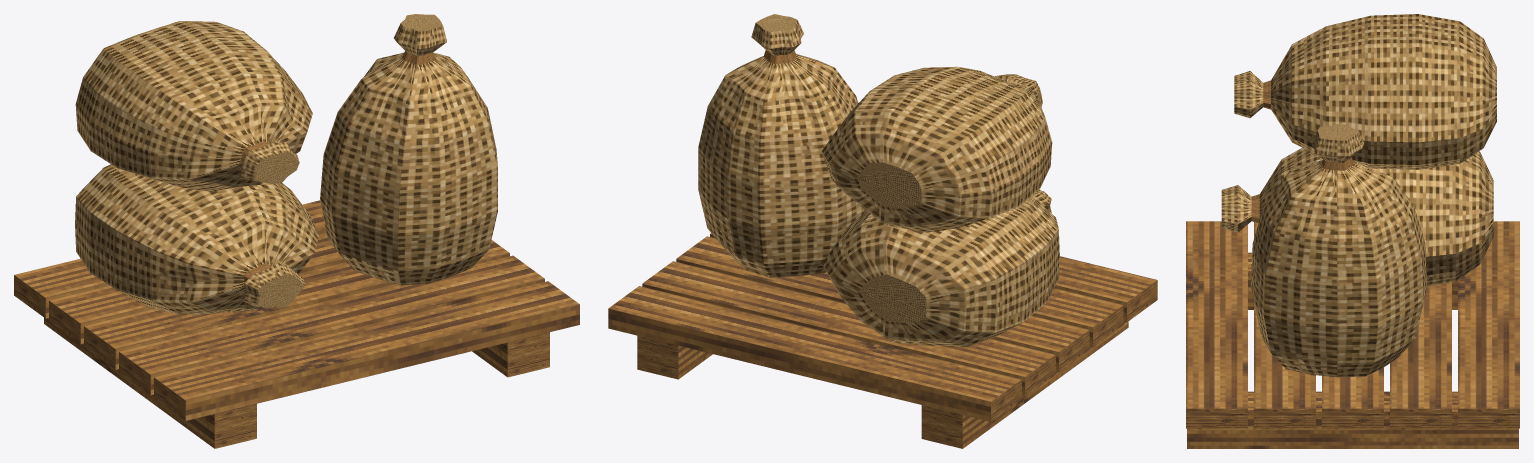
File: Sacchi_06_Pallet.obj
3 views of the same model, side by side, from view 1: azimuth 30°, elevation 25°; view 2: azimuth 150°, elevation 25°; view 3: azimuth 270°, elevation 25° (orthographic). The views are drawn at different scales.
Parts seen in each view (by area): view 1: Sacchi_06_Pallet; view 2: Sacchi_06_Pallet; view 3: Sacchi_06_Pallet.
Boxes of the visible parts, box(x1,y1,x2,y2) form: Sacchi_06_Pallet: box(14, 14, 579, 448); Sacchi_06_Pallet: box(608, 14, 1157, 448); Sacchi_06_Pallet: box(1186, 14, 1519, 448).
Size of the model in its own units: 1.4 by 1.04 by 1.05.
Materials: 1 (1 with a texture image).
